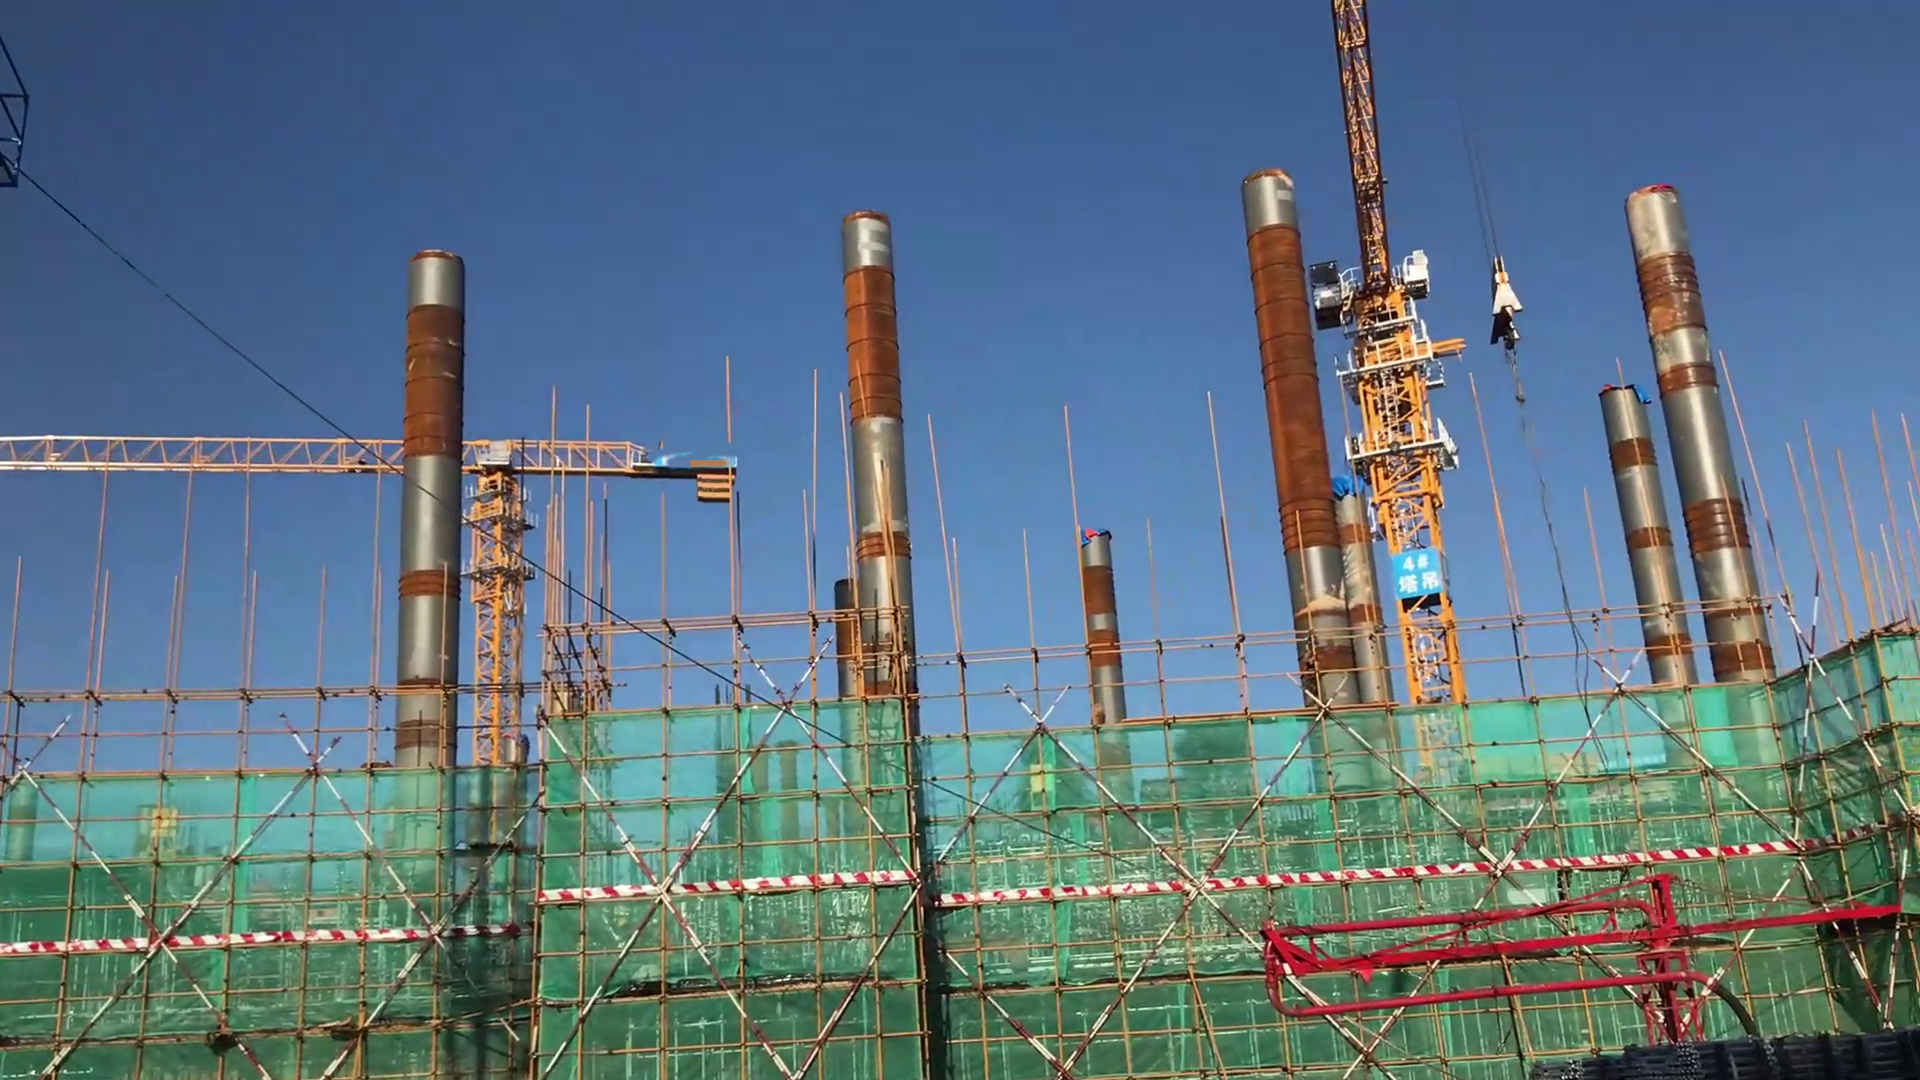hook: (1469, 219, 1563, 385)
